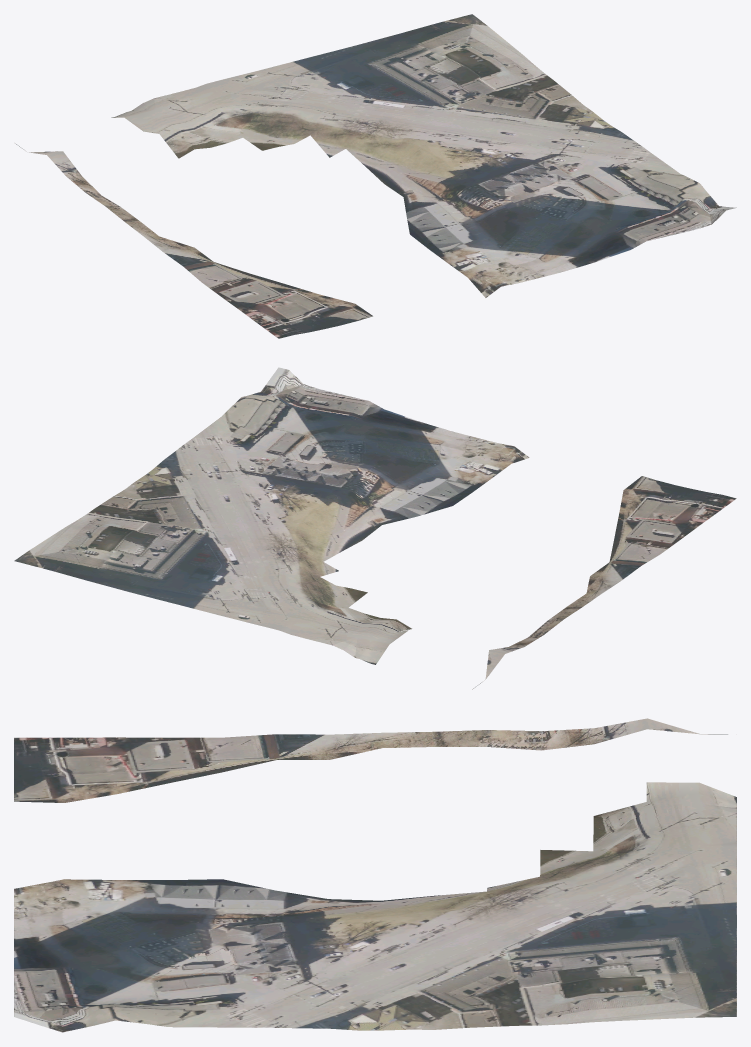
File: CM_Terrain_24487387_6820818.fbx
3 renders of one model, top to bottom at view 1: azimuth 30°, elevation 25°; view 2: azimuth 150°, elevation 25°; view 3: azimuth 270°, elevation 25°, orthographic. The views are drawn at different scales.
Parts seen in each view (by area): view 1: CM_Terrain_24487387_6820818_LOD0; view 2: CM_Terrain_24487387_6820818_LOD0; view 3: CM_Terrain_24487387_6820818_LOD0.
Part boxes in pixels (x1,y1,x2,y2): CM_Terrain_24487387_6820818_LOD0: (15, 14, 736, 338); CM_Terrain_24487387_6820818_LOD0: (14, 367, 736, 689); CM_Terrain_24487387_6820818_LOD0: (14, 718, 736, 1032).
Size of what is drawn, in the model's own units: 205 by 12.44 by 205.
